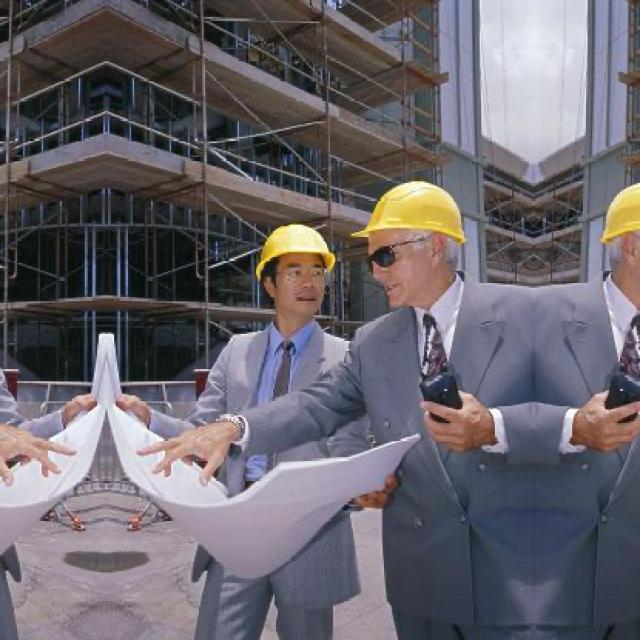helmet: (352, 164, 487, 324), (246, 215, 352, 331), (578, 165, 640, 326)
